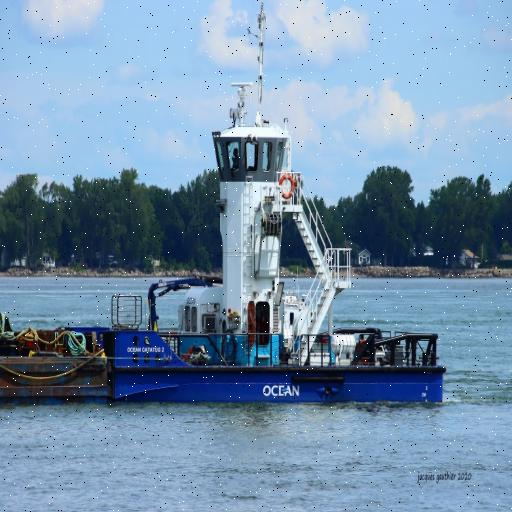tugboat: (60, 80, 451, 416)
